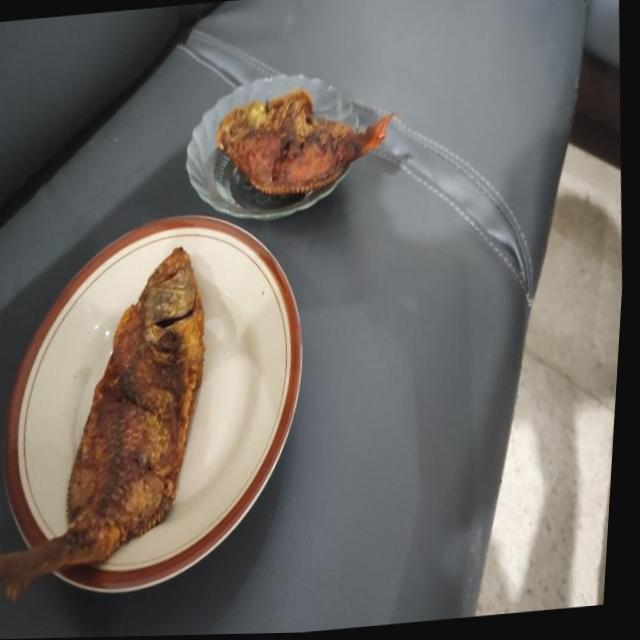ikan_mujair: (0, 246, 205, 598), (216, 89, 394, 195)
